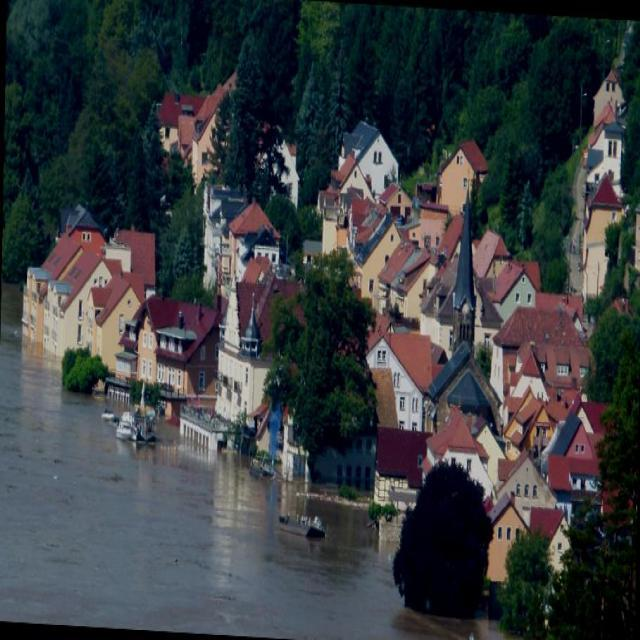flood: (0, 326, 402, 639)
